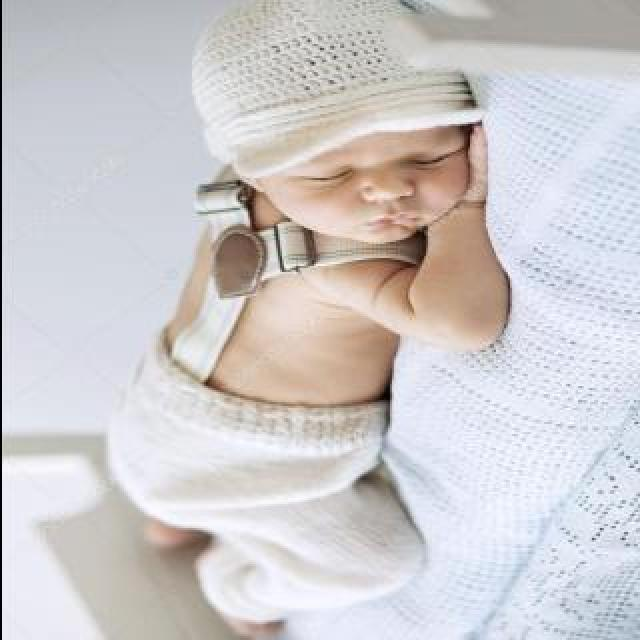baby: (95, 0, 511, 640)
